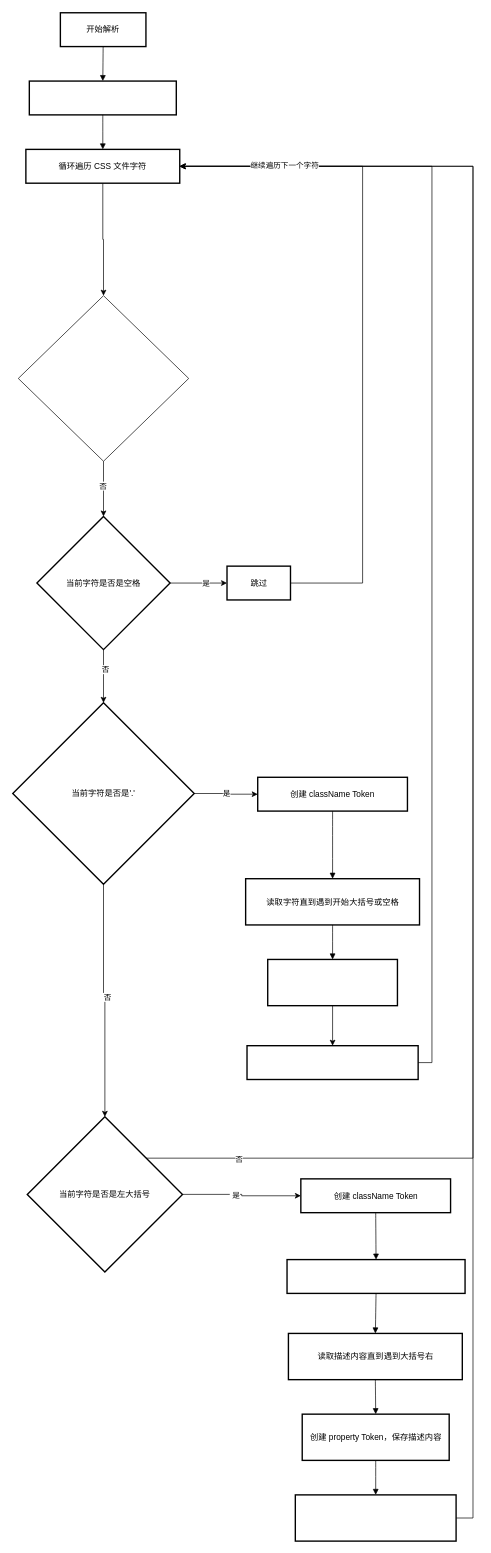
Some shapes in this 491 by 1553 pixel diagram are drawn without their labels. The shapes that lost their labels are listed below. From the top down, each one's centre as x and y in pixels, then its label:
At [102,97]: "初始化空 tokens 数组".
At [103,378]: "是否遍历结束".
At [332,982]: "将读取的内容作为 className 的值".
At [332,1062]: "添加 Token 到 tokens 数组".
At [375,1276]: "创建 descriptionStart Token".
At [375,1517]: "将 Tokens 添加到 tokens 数组".
